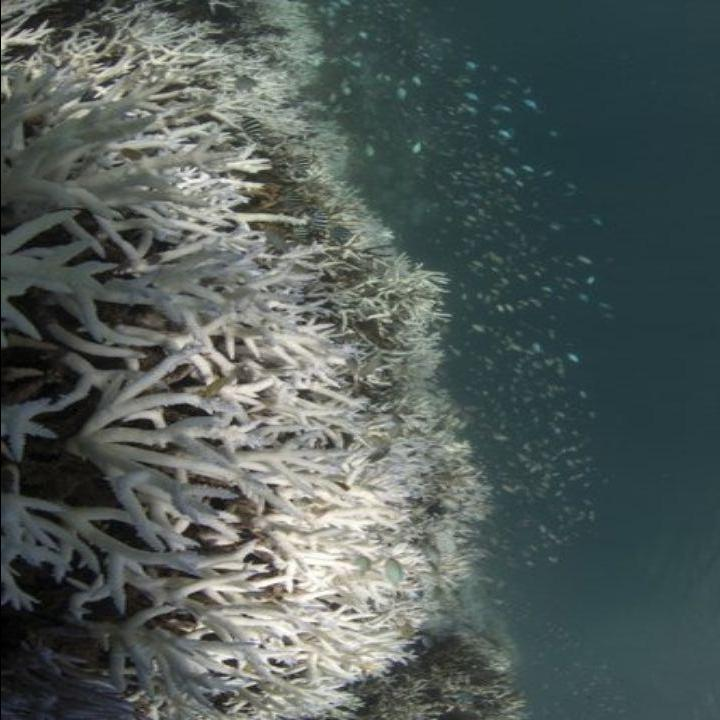Bleached disease: (67, 16, 445, 618)
